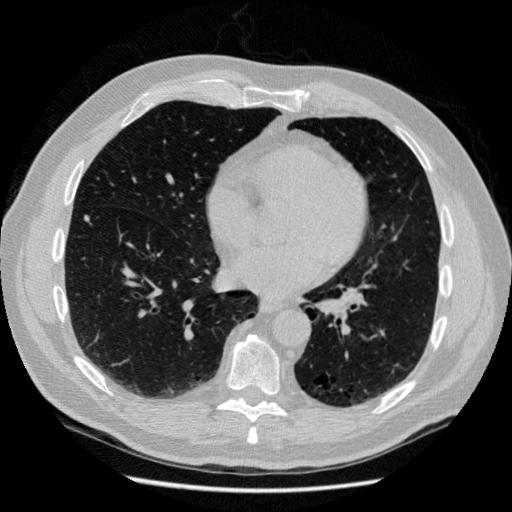nodule: (80, 212, 94, 226)
